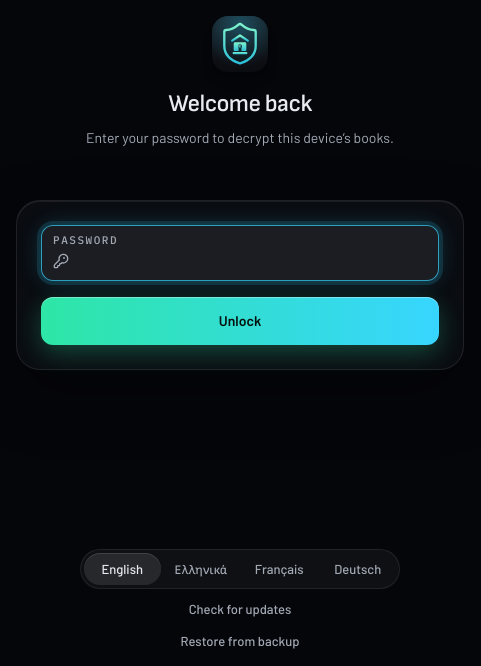
Test case: UnlockScreen form errors › an empty password is reported in the app own words, with no browser bubble
The image size is (481, 666).
What coordinates should you click on to do the following:
click the button "Unlock"
I would click on:
 (240, 321)
Its box is [41,297,439,345].
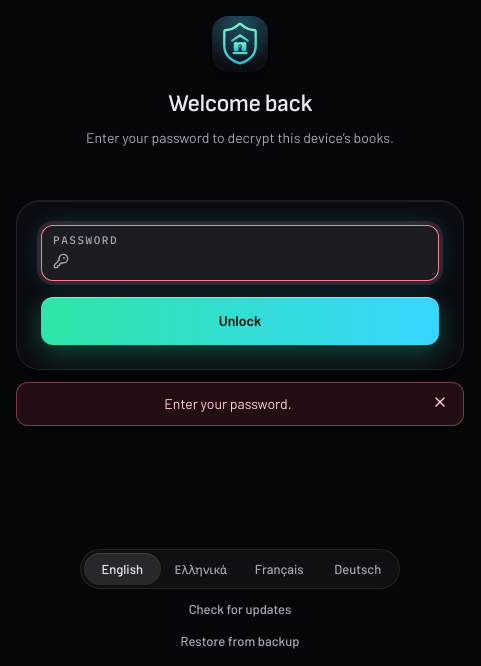
Expected: the message reads "Enter your password.", [164,395,292,412]
